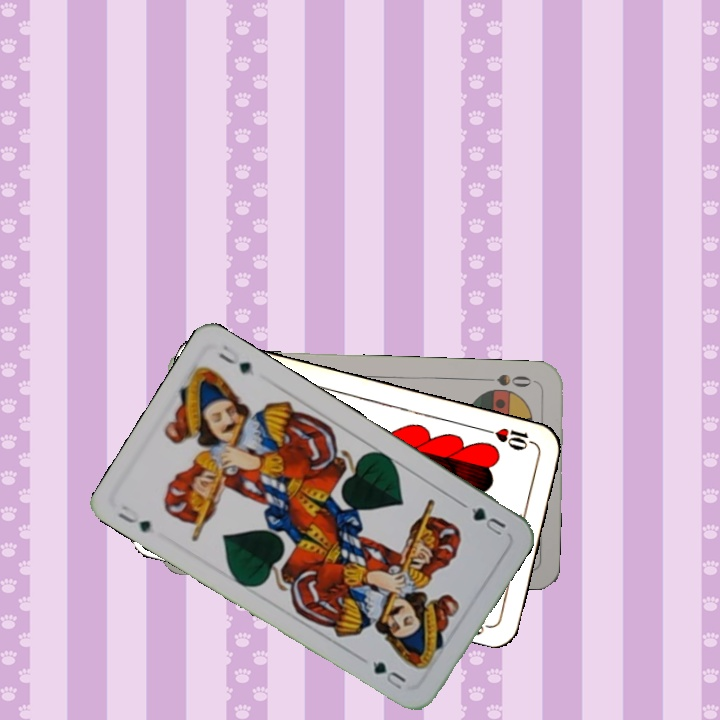GU: (458, 499, 509, 539), (113, 501, 154, 535)
H10: (481, 423, 539, 453)
SO: (481, 370, 540, 390)
